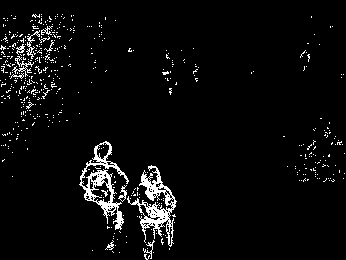person: (83, 136, 130, 254), (135, 165, 177, 260)
